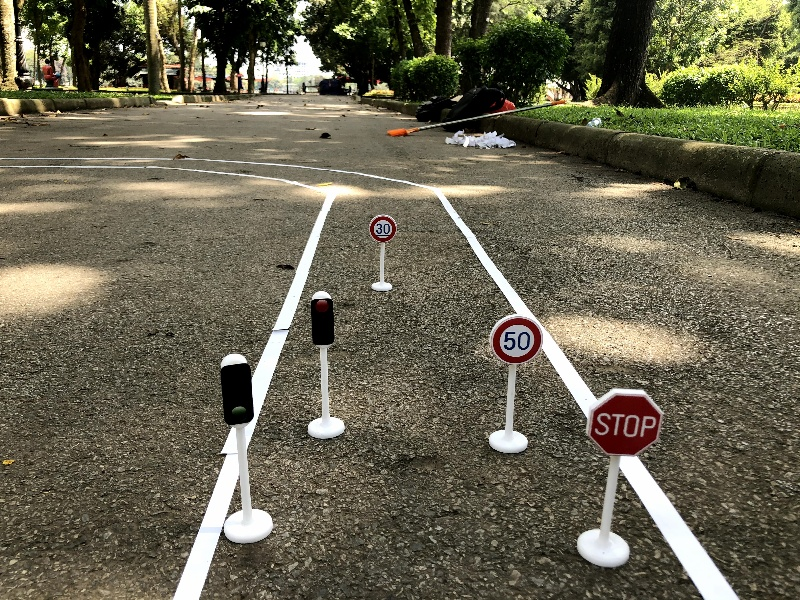Green: (220, 354, 274, 544)
Limit 30: (369, 214, 396, 292)
Limit 50: (489, 313, 544, 455)
Red: (307, 290, 345, 439)
Stop: (575, 388, 664, 569)
